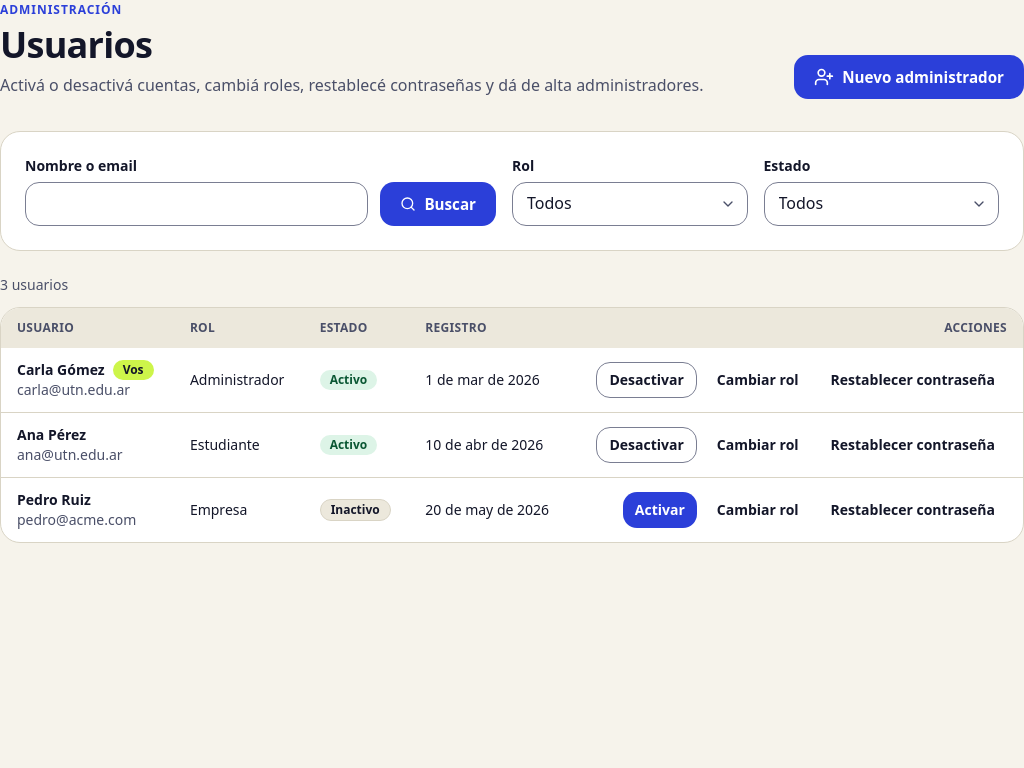
UsuariosAdminPage › si el administrador intenta desactivarse a sí mismo, muestra el mensaje del servidor (409)
Click the button with aria-label "Desactivar a Carla Gómez": [647, 380] box [596,362,697,398]
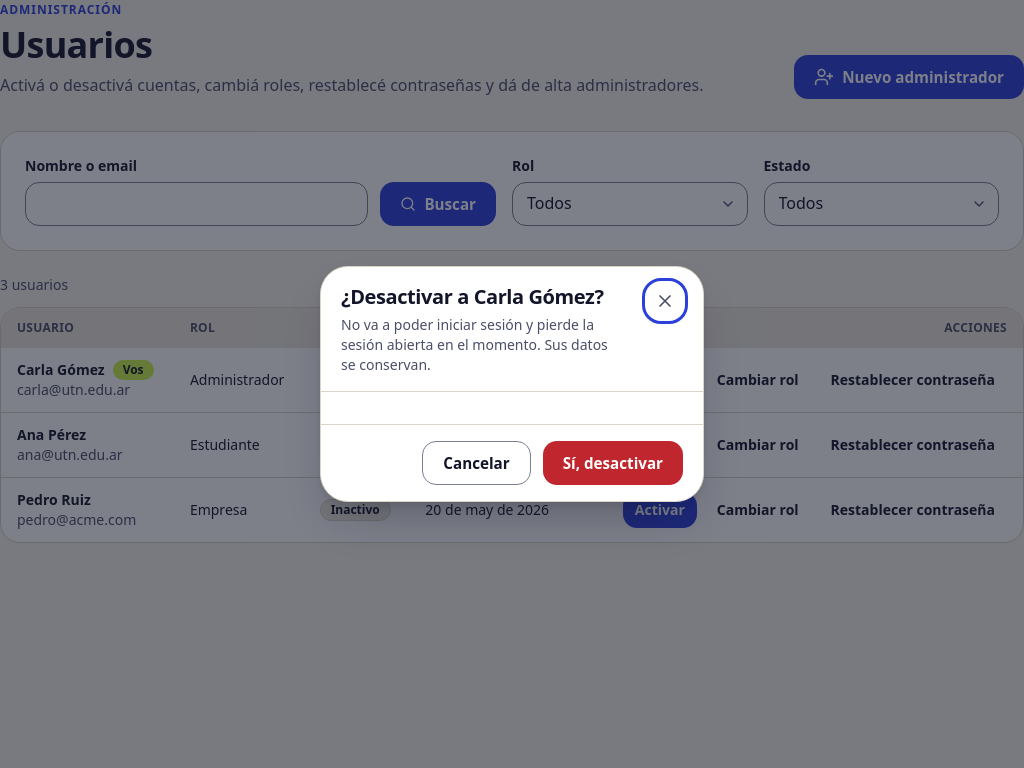
Click the button "Sí, desactivar": [613, 463] box [543,441,683,485]
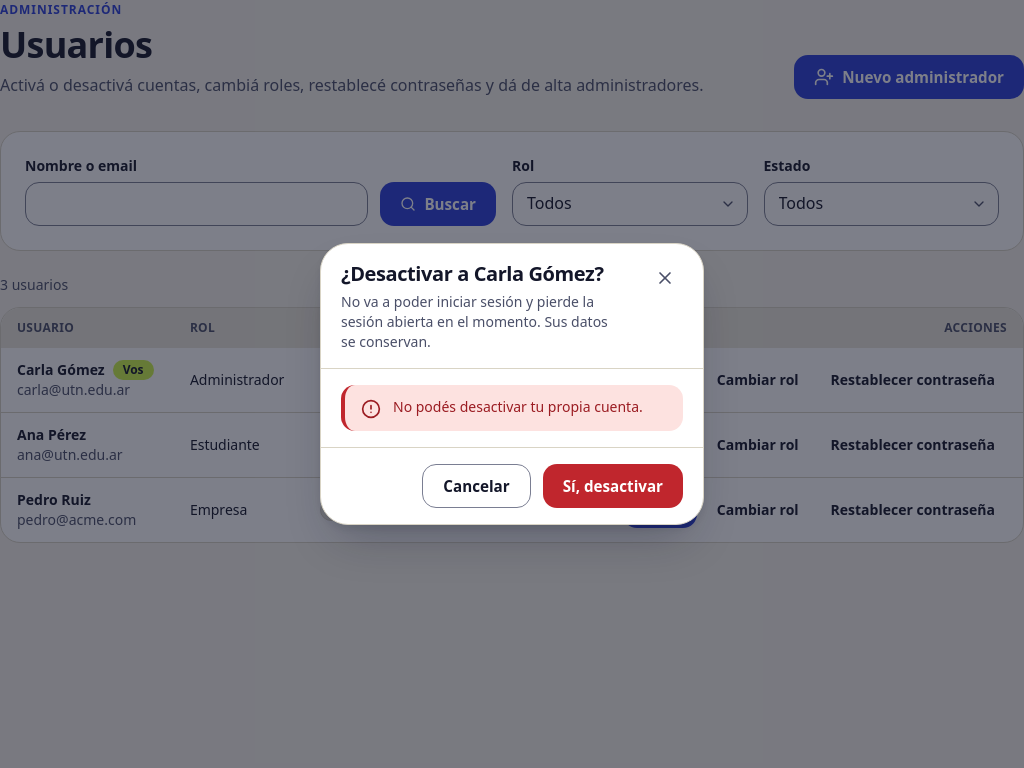
Expected: the text "No podés desactivar tu propia cuenta." is shown, [393,397,643,417]
